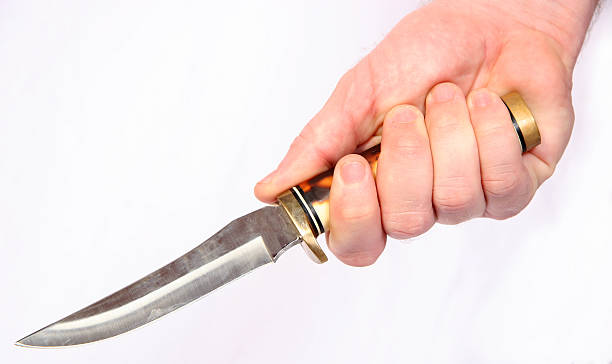knife: (12, 88, 543, 352)
